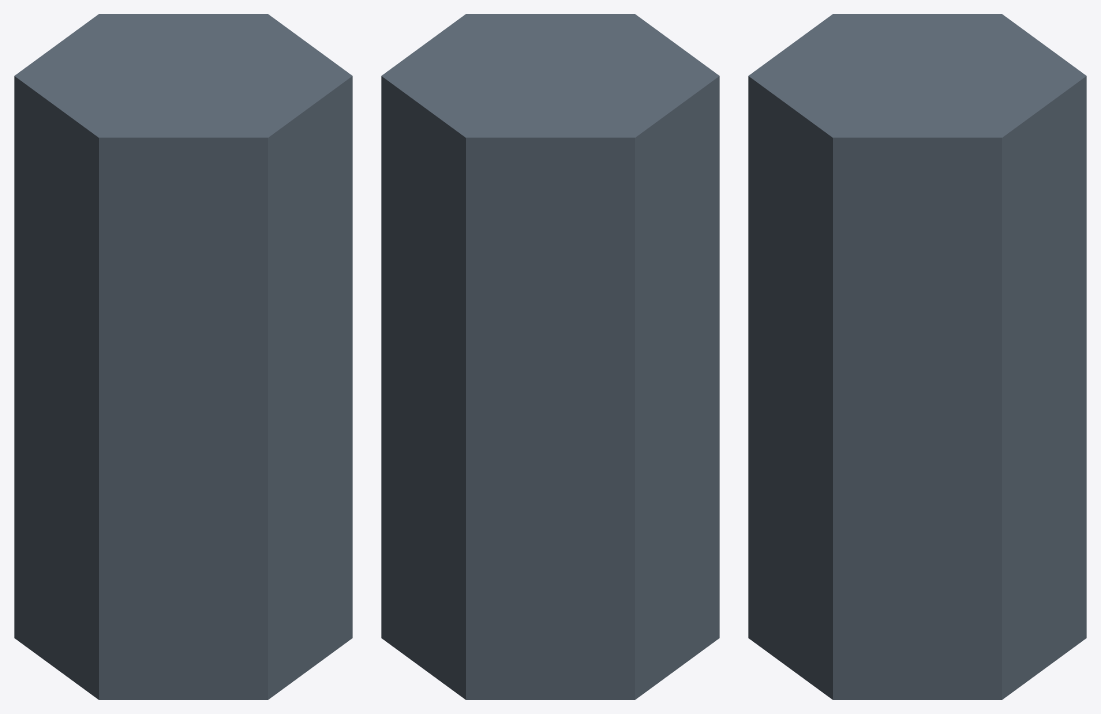
Rendered from Column02.fbx.
3 views of the same model, side by side, from view 1: azimuth 30°, elevation 25°; view 2: azimuth 150°, elevation 25°; view 3: azimuth 270°, elevation 25° (orthographic).
Parts seen in each view (by area): view 1: Column02; view 2: Column02; view 3: Column02.
Part boxes in pixels (x1,y1,x2,y2): Column02: (14,14,352,699); Column02: (381,14,719,699); Column02: (748,14,1086,699).
Size of the model in its own units: 20.78 by 44 by 24.
Materials: 1 (1 with a texture image).
